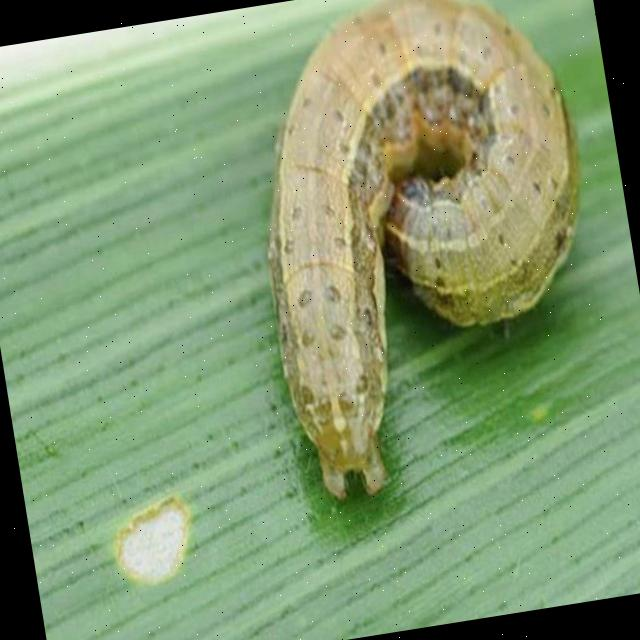worm: (225, 1, 628, 511)
